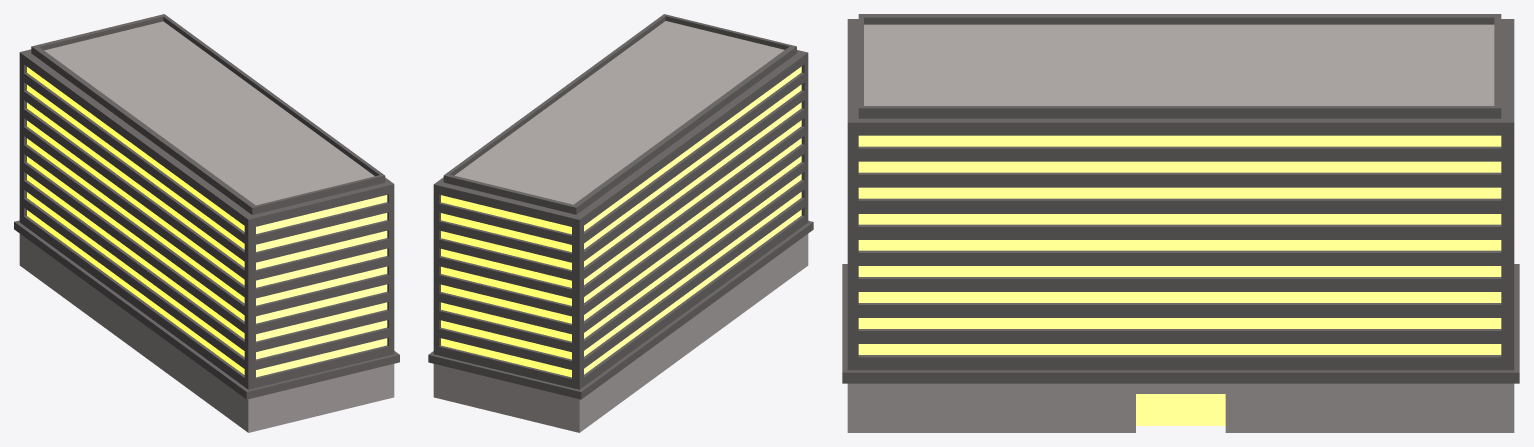
The model's file is building3.glb.
3 renders of one model, left to right at view 1: azimuth 30°, elevation 25°; view 2: azimuth 150°, elevation 25°; view 3: azimuth 270°, elevation 25°, orthographic. The views are drawn at different scales.
Parts seen in each view (by area): view 1: Cube; view 2: Cube; view 3: Cube.
Part boxes in pixels (<box>): Cube: <box>14,14,399,432</box>; Cube: <box>428,14,813,432</box>; Cube: <box>842,14,1519,432</box>.
Size of the model in its own units: 5.15 by 7.08 by 13.56.
